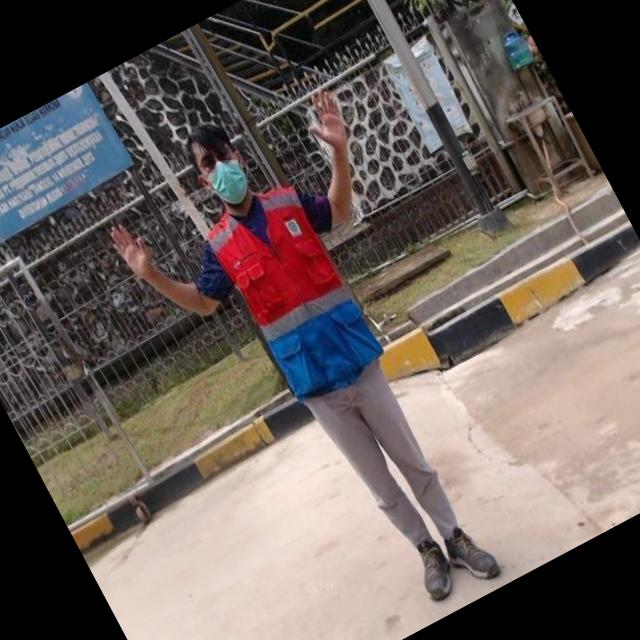safety_vest: (196, 170, 390, 407)
vehicle: (53, 34, 611, 640)
work_boots: (402, 530, 465, 609), (438, 518, 504, 591)
